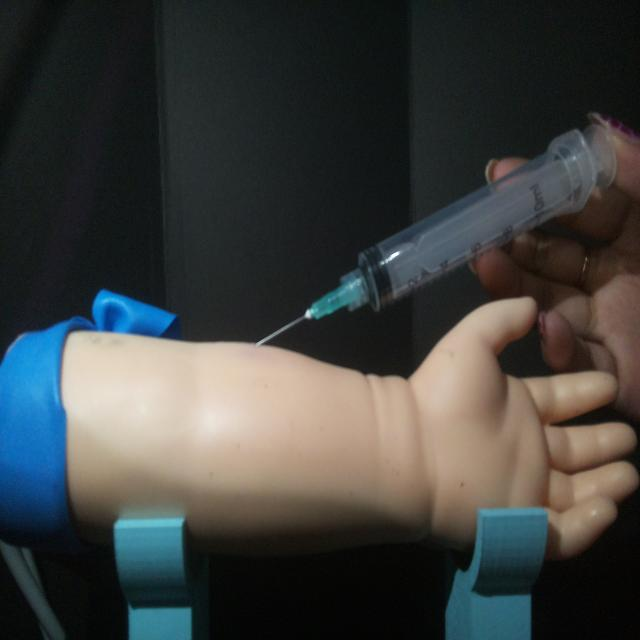27deg: (250, 112, 620, 350)
